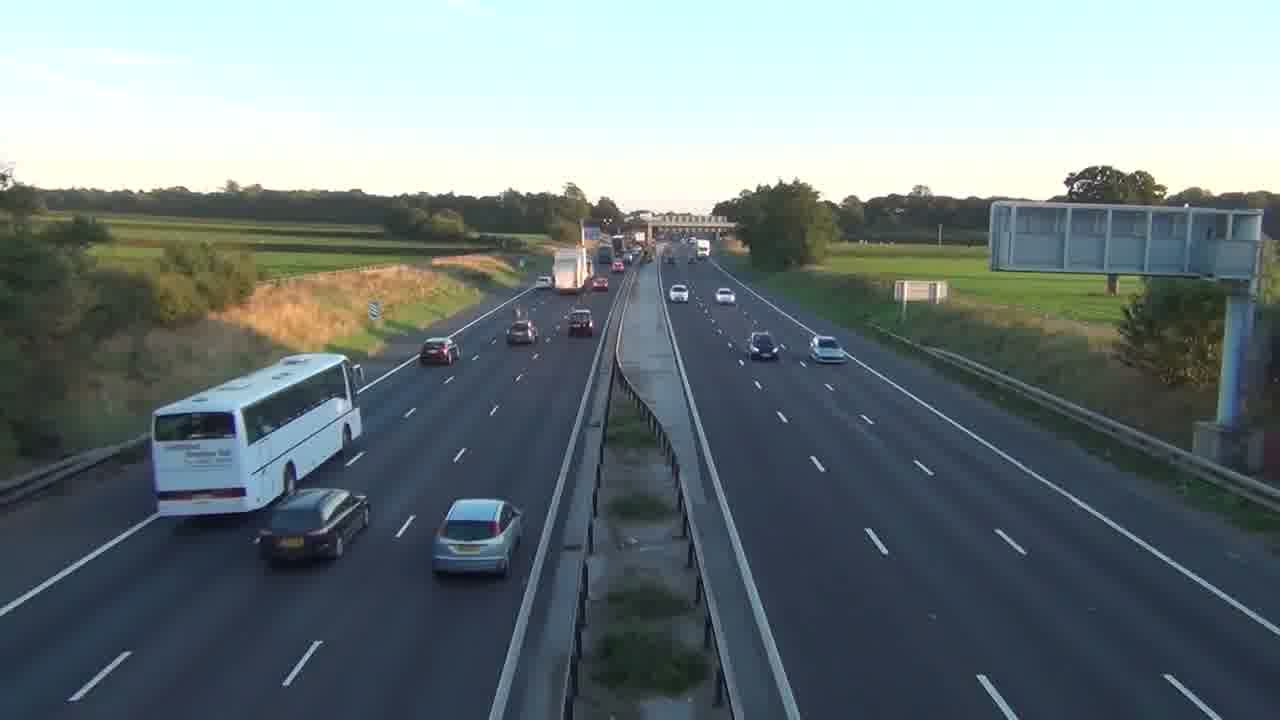bus: (148, 351, 364, 518)
car: (431, 497, 524, 578), (417, 336, 458, 366), (809, 336, 846, 364), (747, 331, 779, 361), (566, 307, 594, 339), (506, 320, 537, 346), (668, 283, 691, 303)
